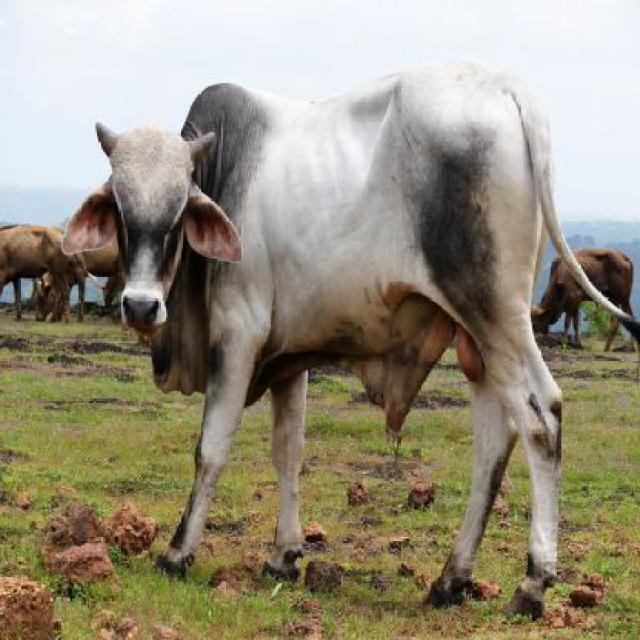Cow: (55, 56, 636, 622)
